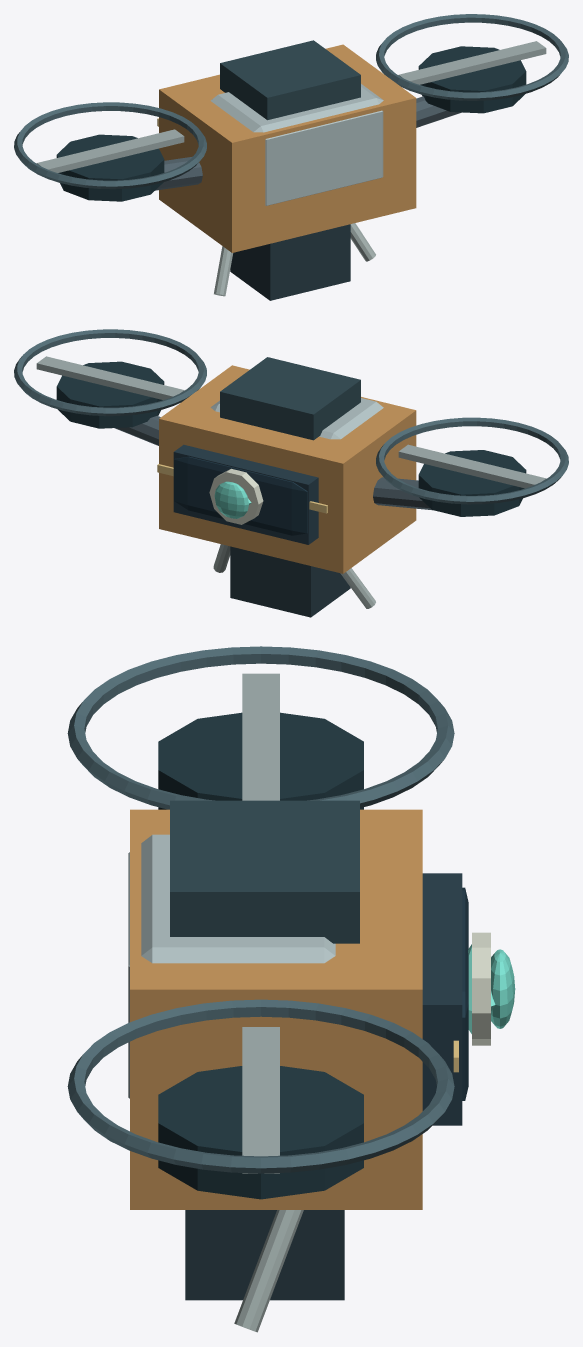
File: patrol-drone.glb
3 renders of one model, top to bottom at view 1: azimuth 30°, elevation 25°; view 2: azimuth 150°, elevation 25°; view 3: azimuth 270°, elevation 25°, orthographic. The views are drawn at different scales.
Parts seen in each view (by area): view 1: patrol-drone; view 2: patrol-drone; view 3: patrol-drone.
Boxes of the visible parts, box(x1,y1,x2,y2) form: patrol-drone: box(14, 14, 568, 300); patrol-drone: box(14, 329, 568, 617); patrol-drone: box(67, 646, 515, 1332).
Size of the model in its own units: 3.22 by 1.21 by 1.18.
